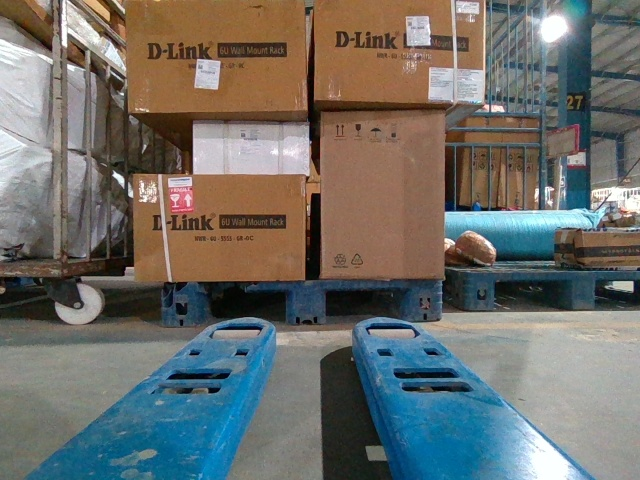block: (286, 275, 329, 327), (160, 282, 200, 329), (409, 276, 444, 322), (466, 270, 493, 310), (568, 273, 596, 310)
front: (167, 280, 442, 324)
hole pallet: (198, 289, 296, 326), (324, 282, 407, 321), (495, 277, 575, 309)
